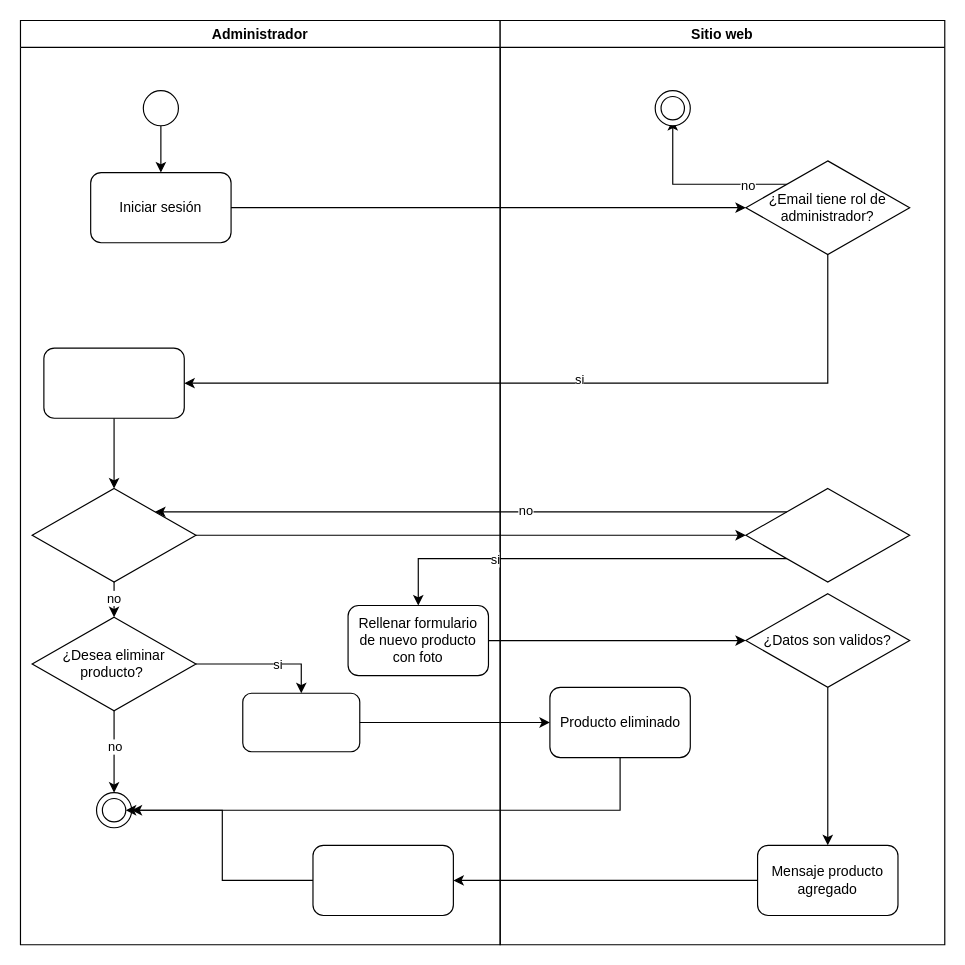
Some shapes in this 965 by 965 pixel diagram are drawn without their labels. Here are the shapes that lost their labels. From the top down, the centre of each, then its label:
point 113,382: Mostrar panel de administrador
point 113,534: ¿Desea agregar producto?
point 827,534: ¿El producto existe?
point 301,722: Seleccionar producto a eliminar
point 382,880: Mostrar producto nuevo
